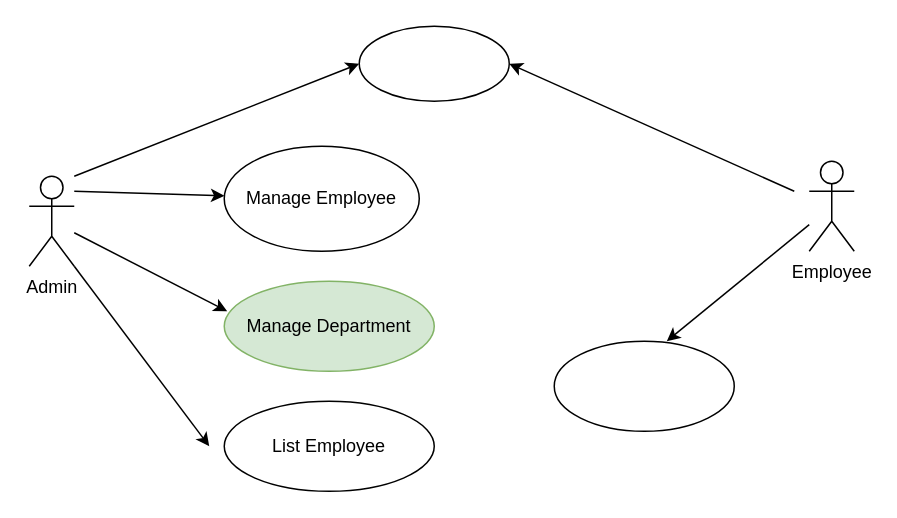
Some shapes in this 897 by 518 pixel diagram are drawn without their labels. The centre of each missing label's shape, as x and y in pixels:
log: [433,63]
View Profile: [643,385]
